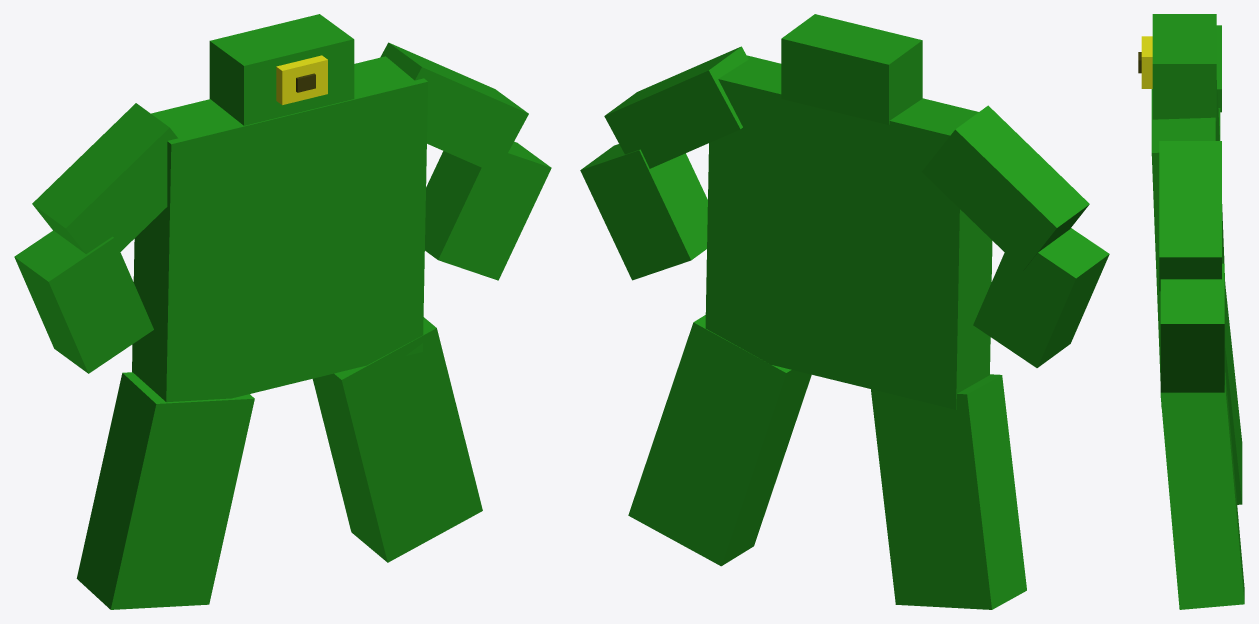
Rendered from AlianMachine.fbx.
The picture shows the model from 3 angles, left to right: view 1: azimuth 30°, elevation 25°; view 2: azimuth 150°, elevation 25°; view 3: azimuth 270°, elevation 25°; orthographic projection. The views are drawn at different scales.
Parts seen in each view (by area): view 1: Cube.001, Cube.007; view 2: Cube.001; view 3: Cube.001, Cube.007.
Part boxes in pixels (x1,y1,x2,y2): Cube.001: (14, 14, 551, 609); Cube.007: (276, 55, 327, 105); Cube.001: (580, 14, 1109, 609); Cube.001: (1151, 14, 1244, 609); Cube.007: (1141, 36, 1152, 88).
Size of the model in its own units: 170 by 175 by 33.2.
